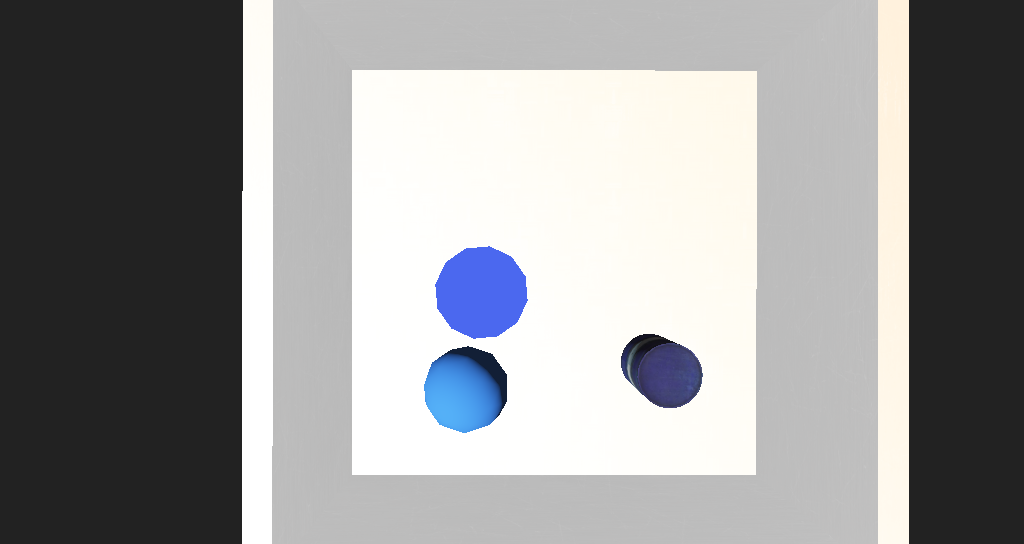cone: (552, 301, 606, 339)
cylinder: (414, 255, 488, 308)
sphere: (404, 308, 472, 351)
